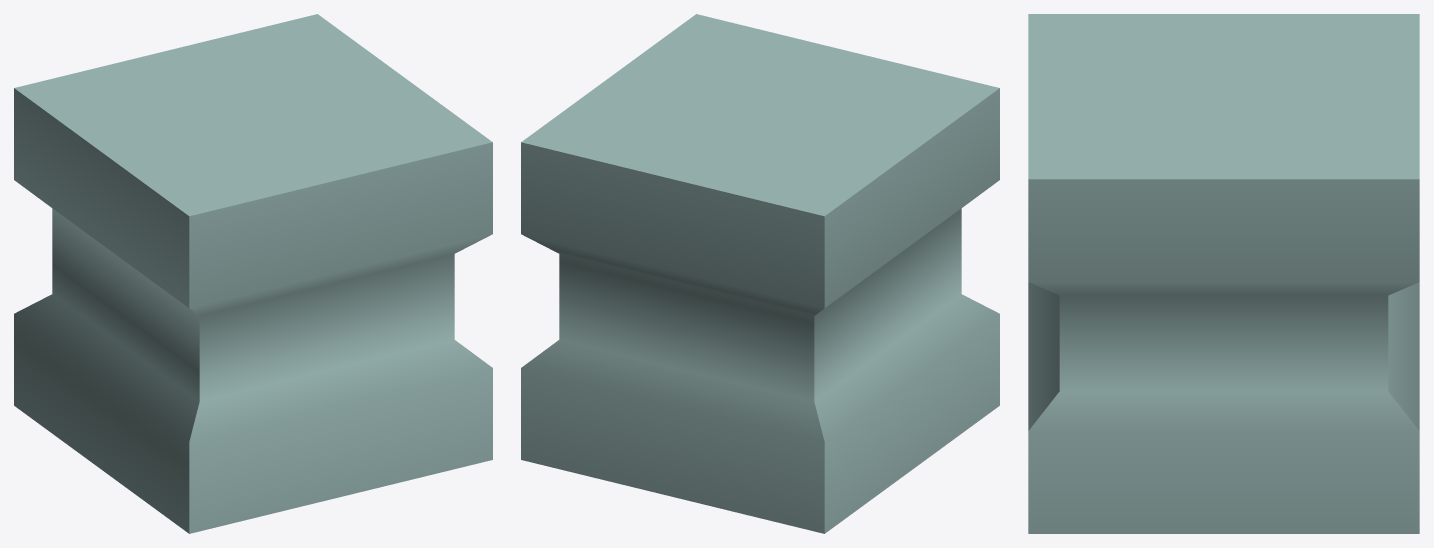
The model's file is BPillarTrimS.fbx.
3 renders of one model, left to right at view 1: azimuth 30°, elevation 25°; view 2: azimuth 150°, elevation 25°; view 3: azimuth 270°, elevation 25°, orthographic. The views are drawn at different scales.
Visible parts, largest first — view 1: BPillarTrimS; view 2: BPillarTrimS; view 3: BPillarTrimS.
Boxes of the visible parts, left/top/right/bottom form: BPillarTrimS: left=14, top=14, right=492, bottom=533; BPillarTrimS: left=521, top=14, right=999, bottom=533; BPillarTrimS: left=1028, top=14, right=1419, bottom=533.
Bounding box in the file's own units: 100 × 100 × 100.
